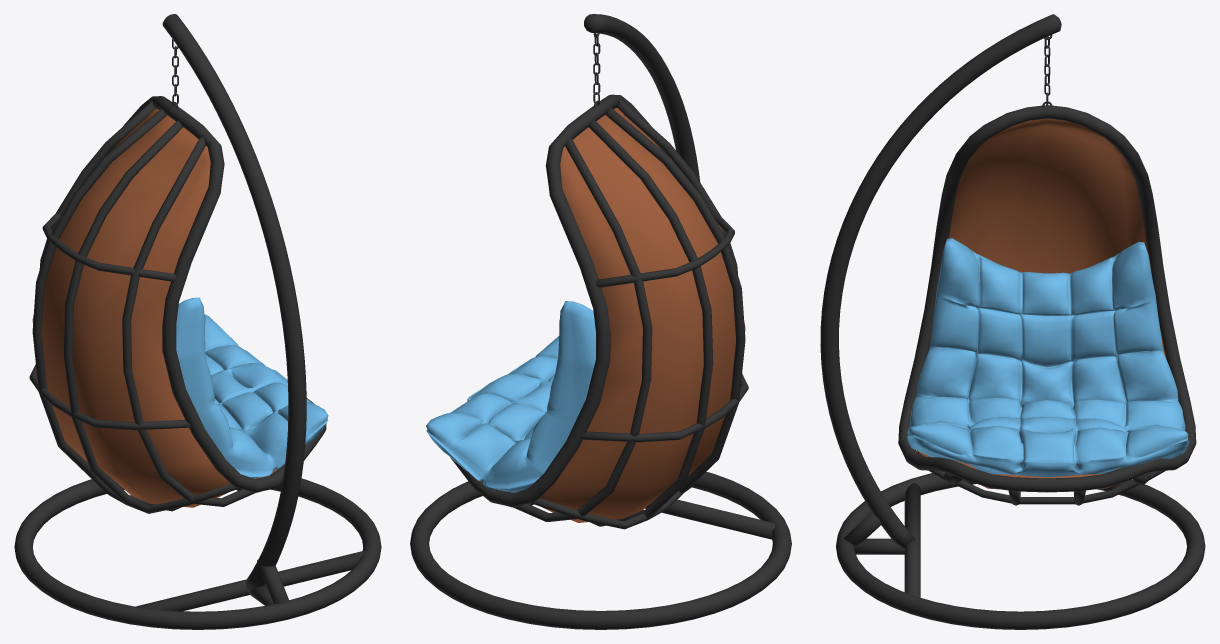
3 renders of one model, left to right at view 1: azimuth 30°, elevation 25°; view 2: azimuth 150°, elevation 25°; view 3: azimuth 270°, elevation 25°, orthographic. The views are drawn at different scales.
Parts seen in each view (by area): view 1: Torus.002, Torus.003, Torus.001; view 2: Torus.002, Torus.003, Torus.001; view 3: Torus.001, Torus.002, Torus.003.
Boxes of the visible parts, x1,y1,x2,y2 form: Torus.002: (14,14,381,629); Torus.003: (32,108,284,507); Torus.001: (176,297,328,478); Torus.002: (410,14,791,629); Torus.003: (499,107,745,522); Torus.001: (426,301,595,492); Torus.001: (907,238,1189,477); Torus.002: (820,14,1205,629); Torus.003: (916,118,1166,491).
Size of the model in its own units: 104 by 166 by 108.
